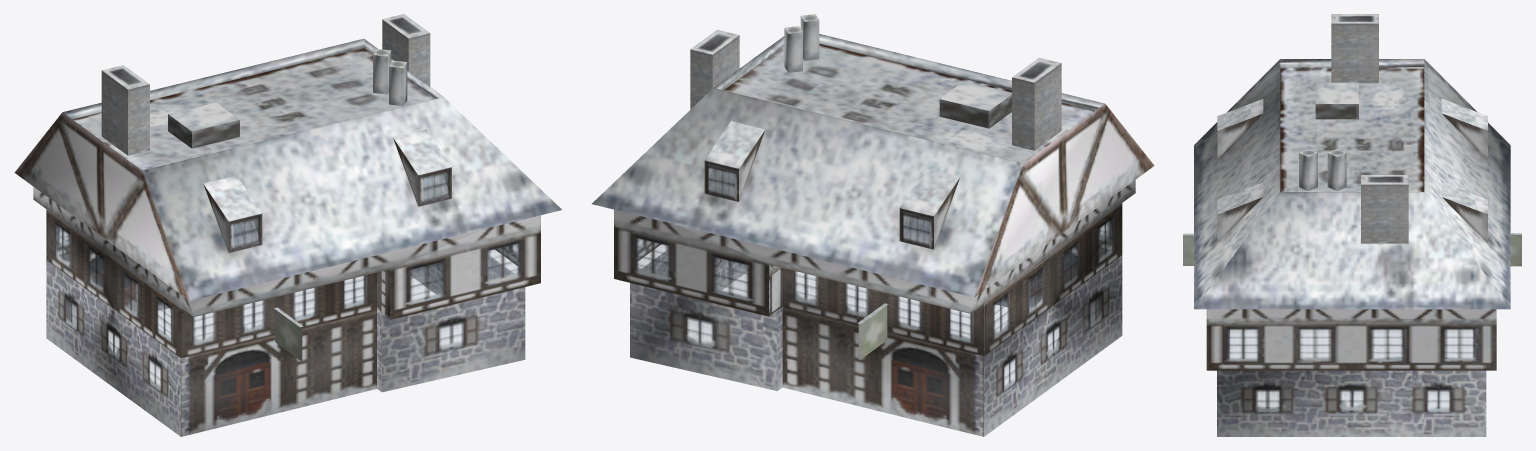
The model's file is Civilian - Civilian Building - German Pub 02 - Snow - CBGPub02_s.glb.
3 renders of one model, left to right at view 1: azimuth 30°, elevation 25°; view 2: azimuth 150°, elevation 25°; view 3: azimuth 270°, elevation 25°, orthographic. The views are drawn at different scales.
Parts seen in each view (by area): view 1: CBGPUB02_S; view 2: CBGPUB02_S; view 3: CBGPUB02_S.
Part boxes in pixels (left/top/right/bottom): CBGPUB02_S: left=14, top=14, right=561, bottom=436; CBGPUB02_S: left=592, top=14, right=1154, bottom=436; CBGPUB02_S: left=1183, top=14, right=1521, bottom=436.
Size of the model in its own units: 53.35 by 41.76 by 46.48.
1 material, 1 textured.
